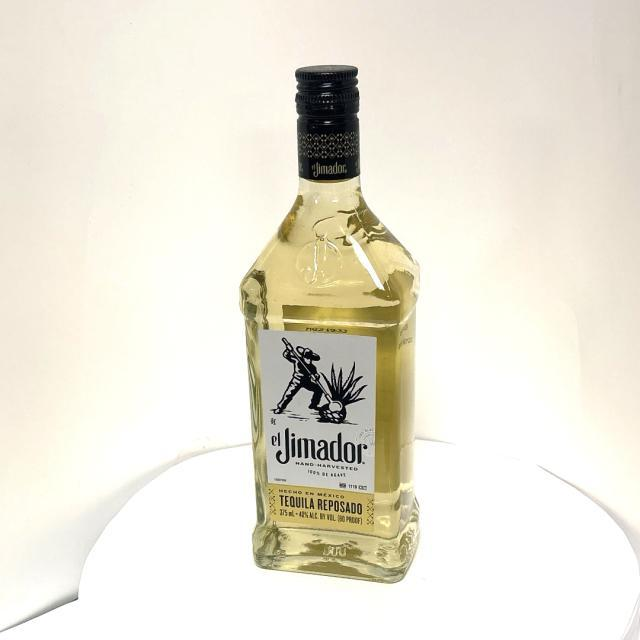EL JIMADOR REPOSADO 375ML: (239, 66, 421, 586)
